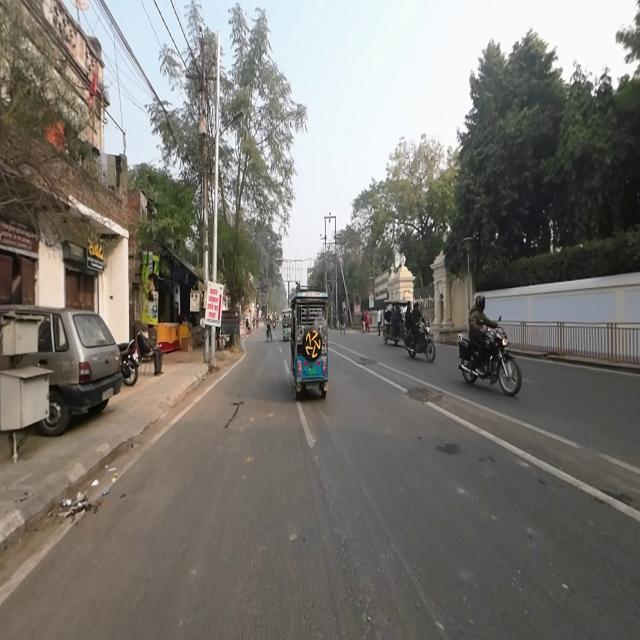Garbage: (61, 490, 95, 520), (91, 476, 117, 489)
